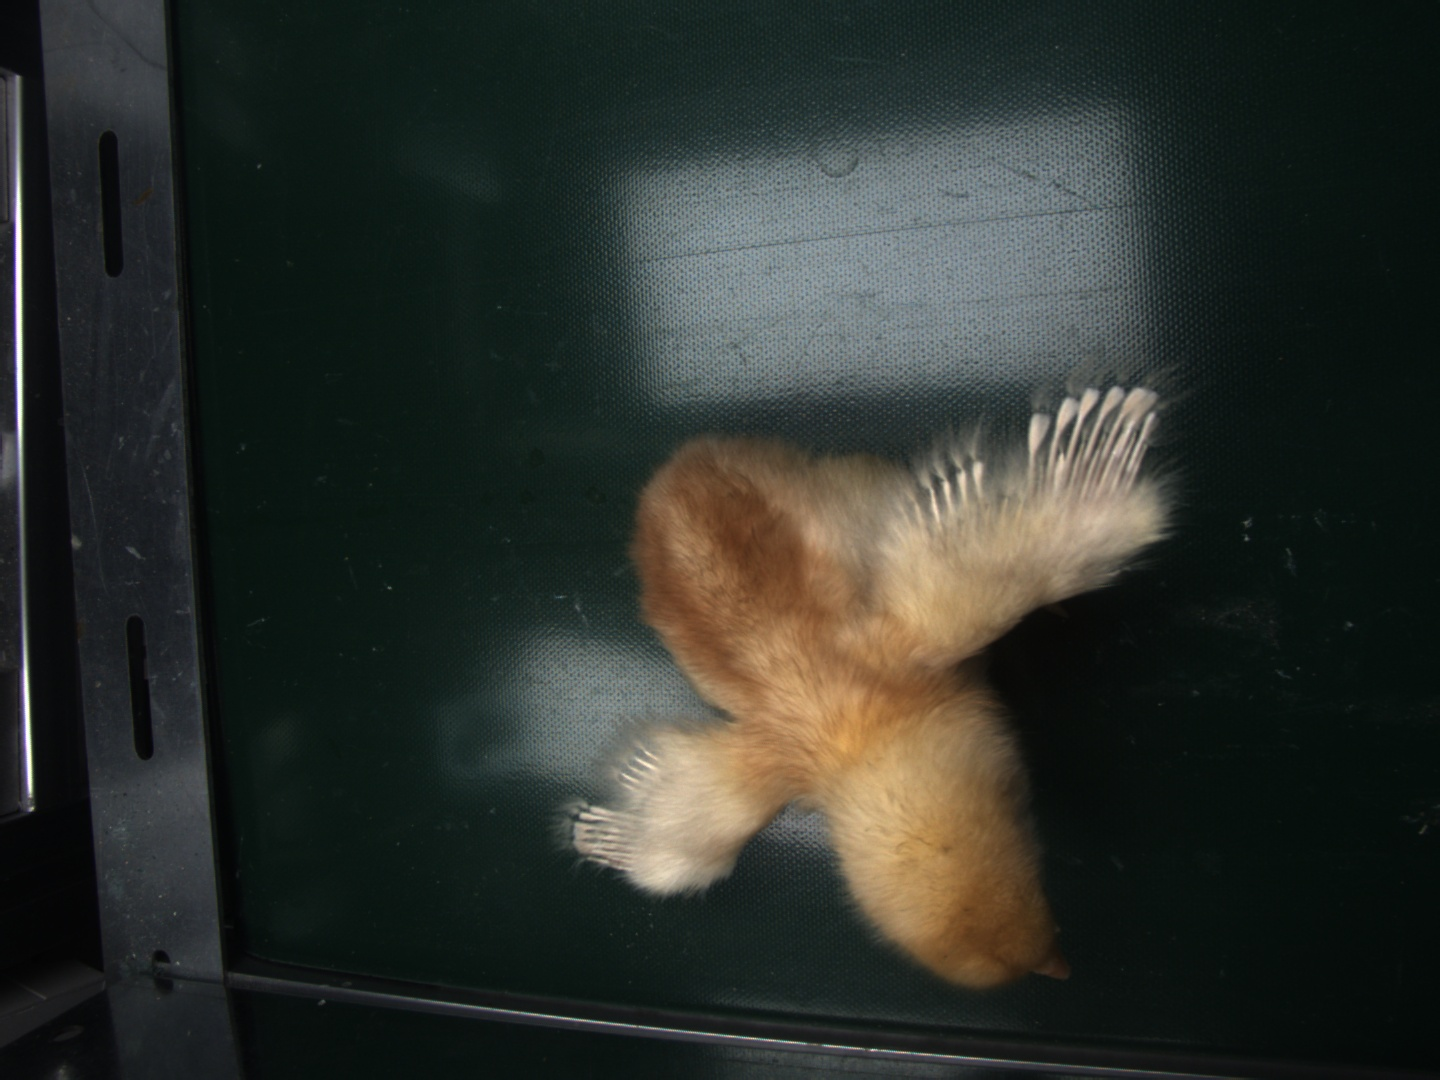female: (1027, 383, 1166, 486), (585, 811, 633, 870)
